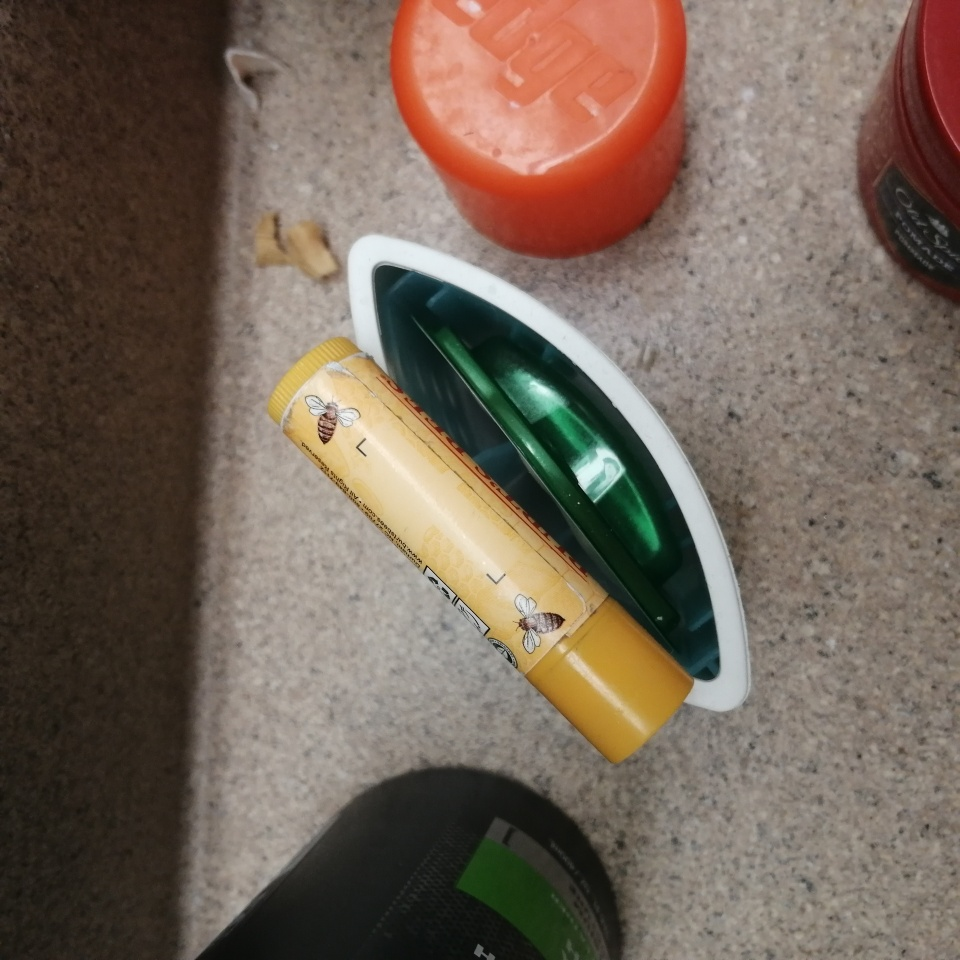chapstick: (265, 335, 697, 767)
